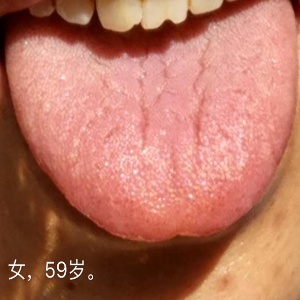st: (7, 36, 300, 237)
